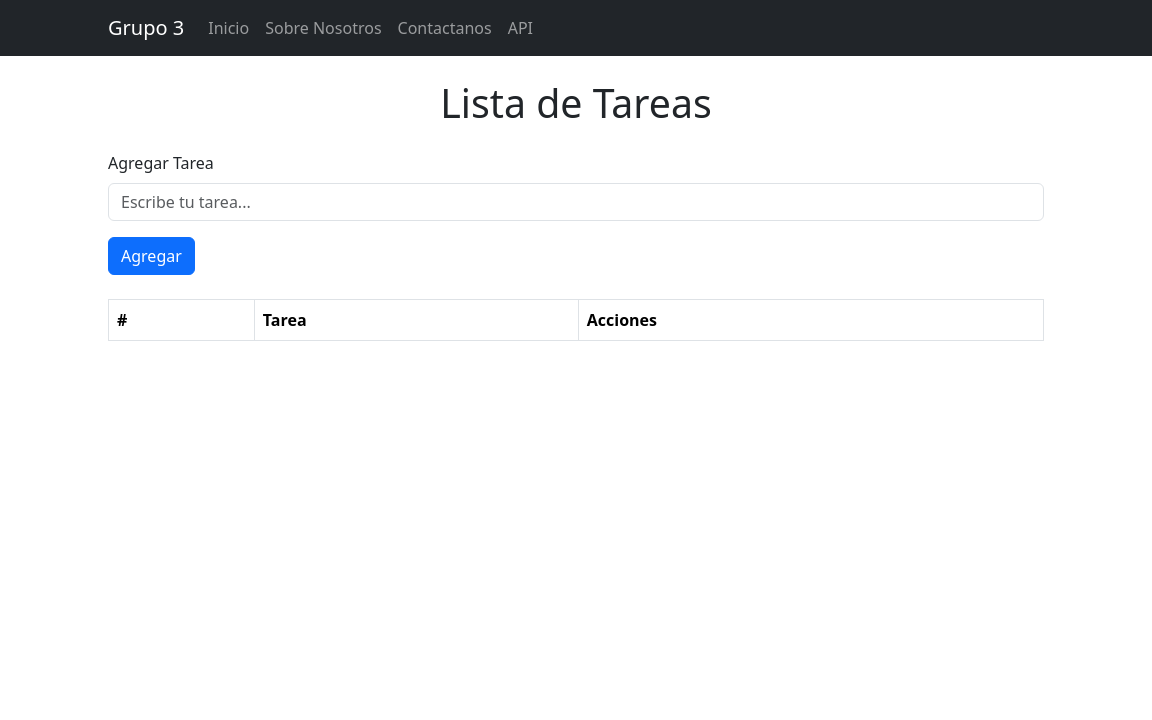
Test: Add Task Tests › Debe agregar múltiples tareas y mostrarlas en orden
In the field with placeholder "Escribe tu tarea...": (576, 202) [108,183,1044,221], type "Task 1"
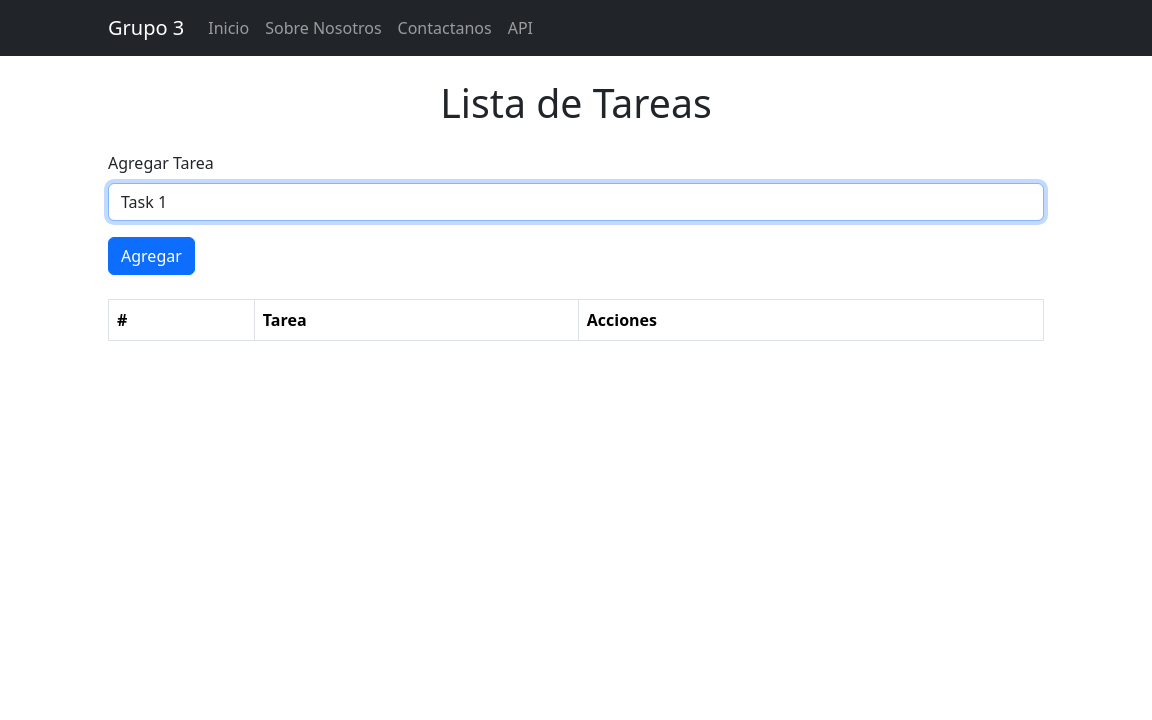
Click the button "Agregar": (152, 256) [108,237,195,275]
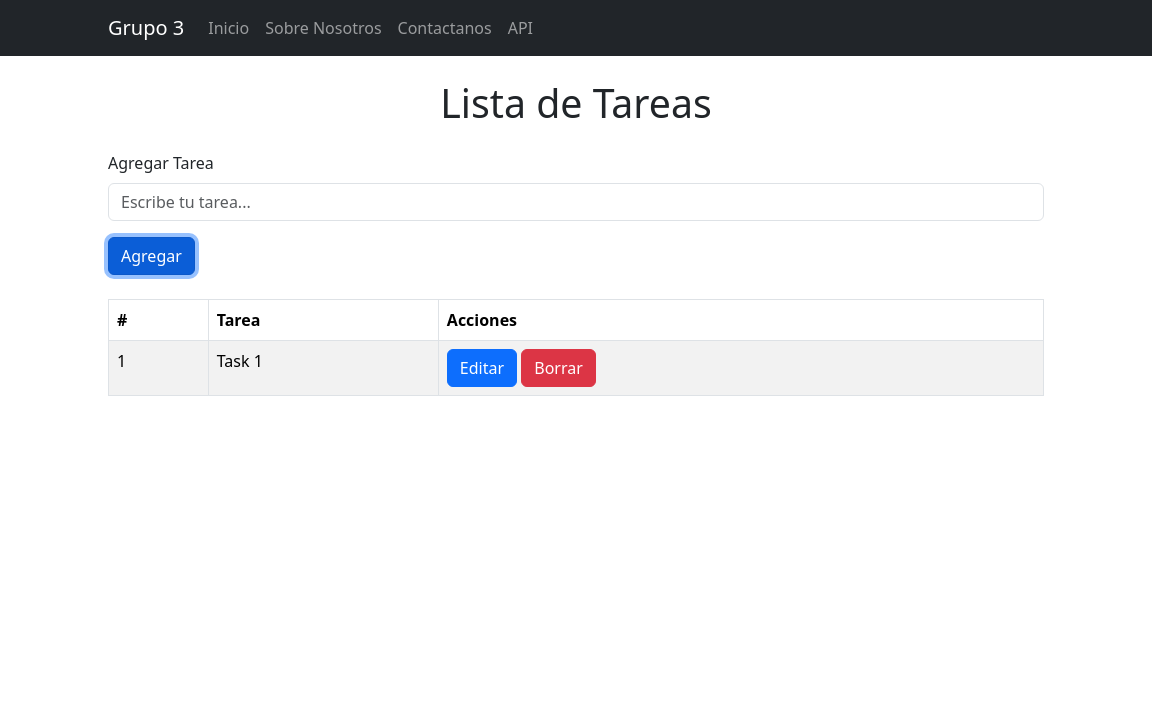
In the field with placeholder "Escribe tu tarea...": (576, 202) [108,183,1044,221], type "Task 2"
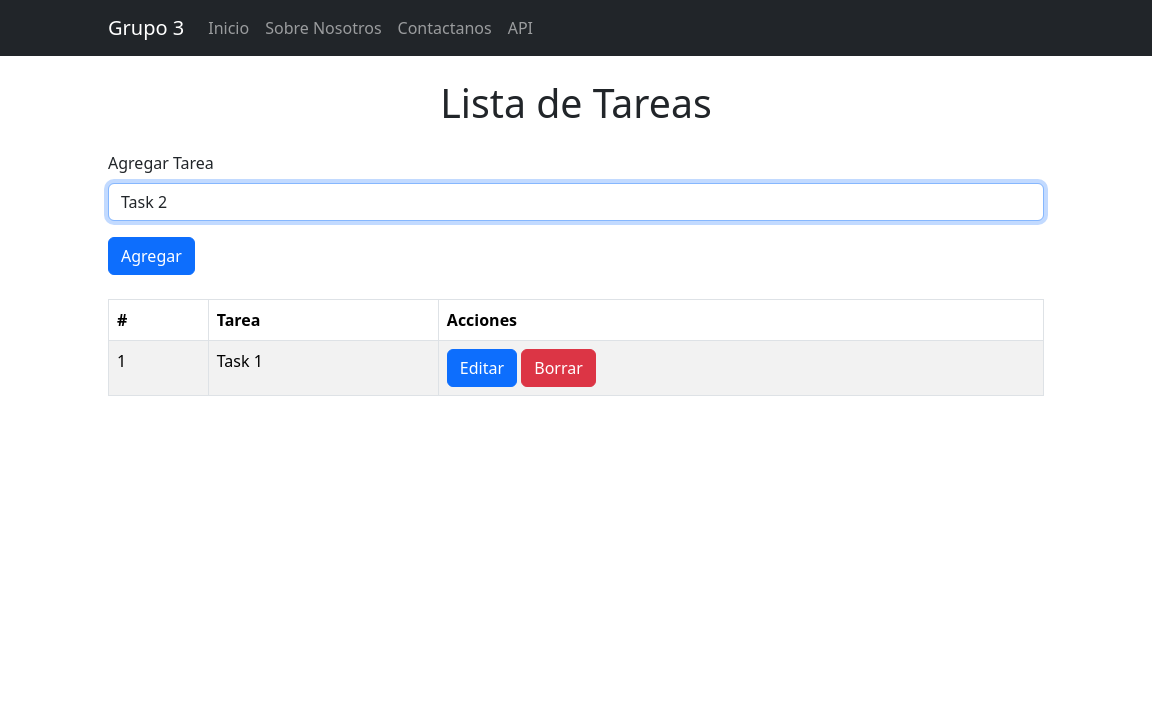
Click the button "Agregar": (152, 256) [108,237,195,275]
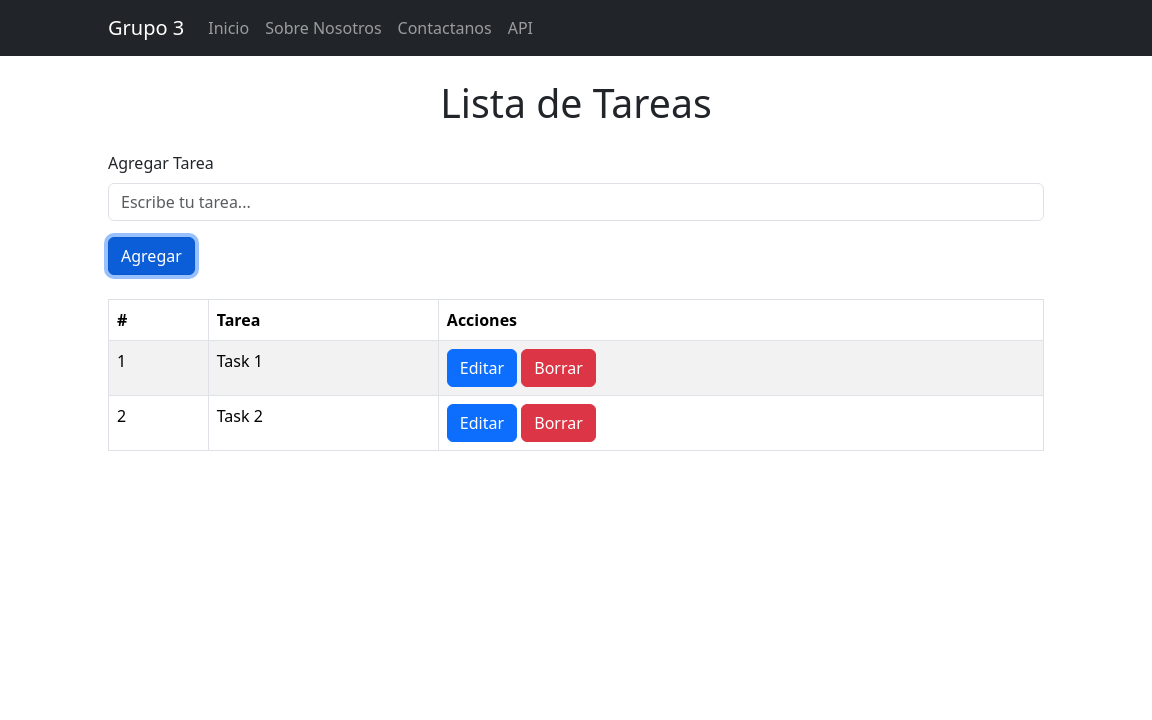
In the field with placeholder "Escribe tu tarea...": (576, 202) [108,183,1044,221], type "Task 3"
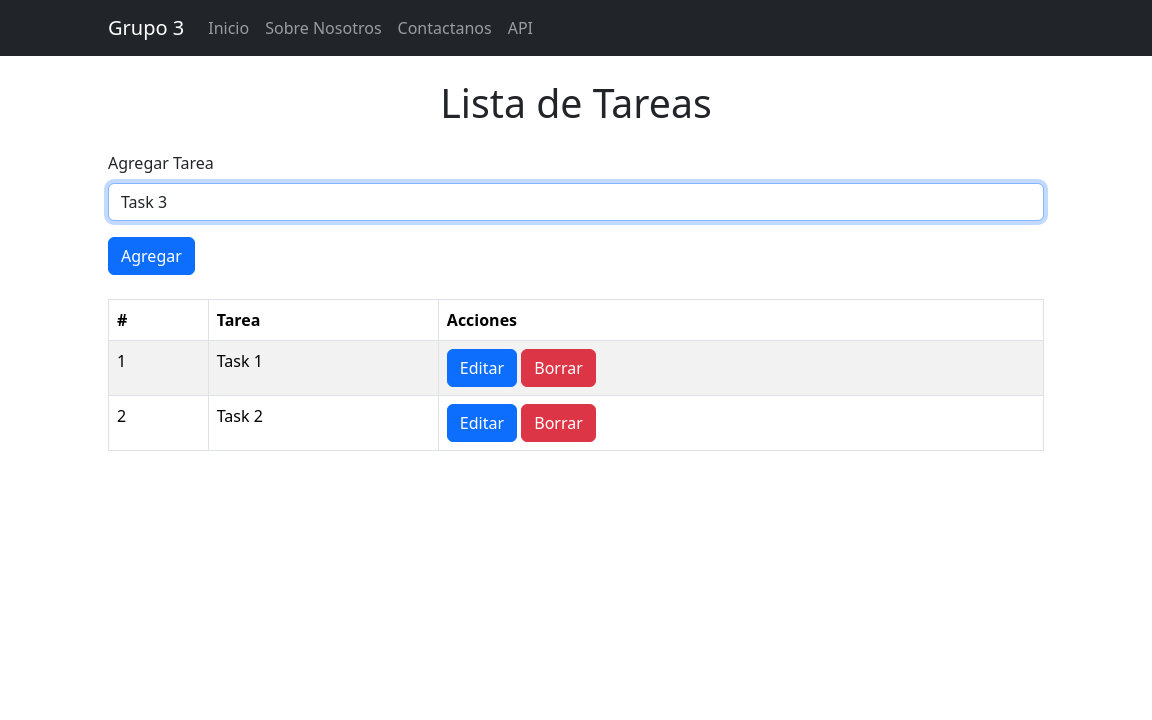
Click the button "Agregar": (152, 256) [108,237,195,275]
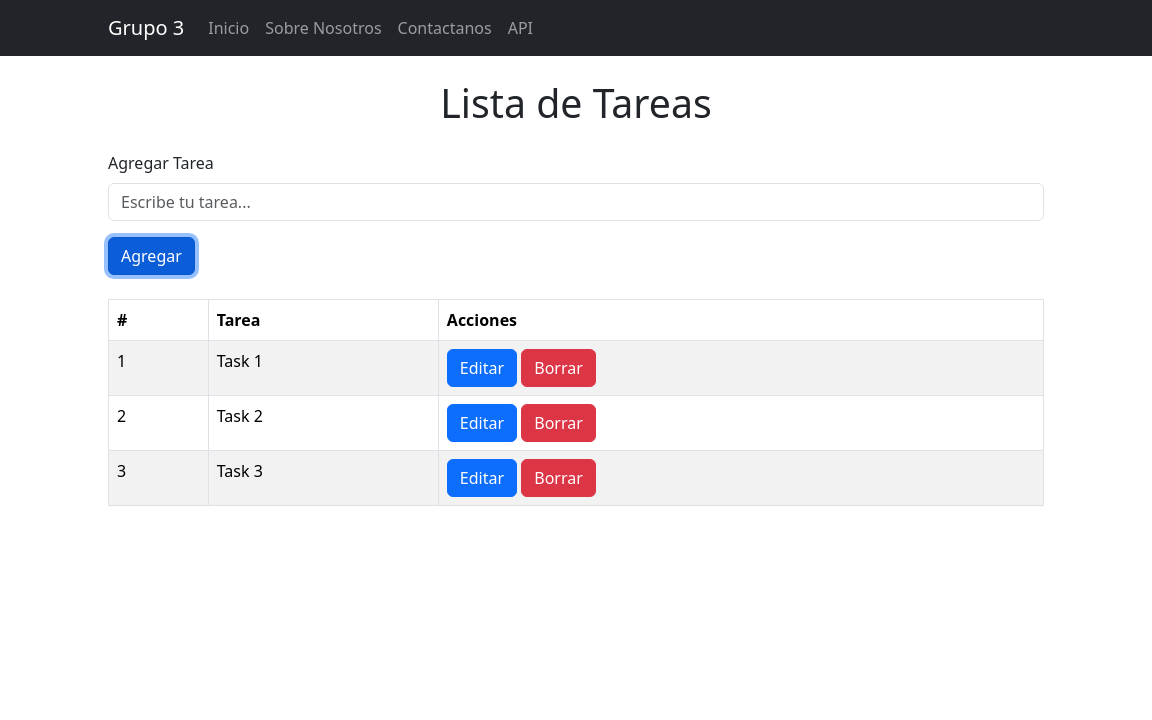
Expected: the cell "Task 1" is shown, [208,341,438,396]
Expected: the cell "Task 2" is shown, [208,396,438,451]
Expected: the cell "Task 3" is shown, [208,451,438,506]
